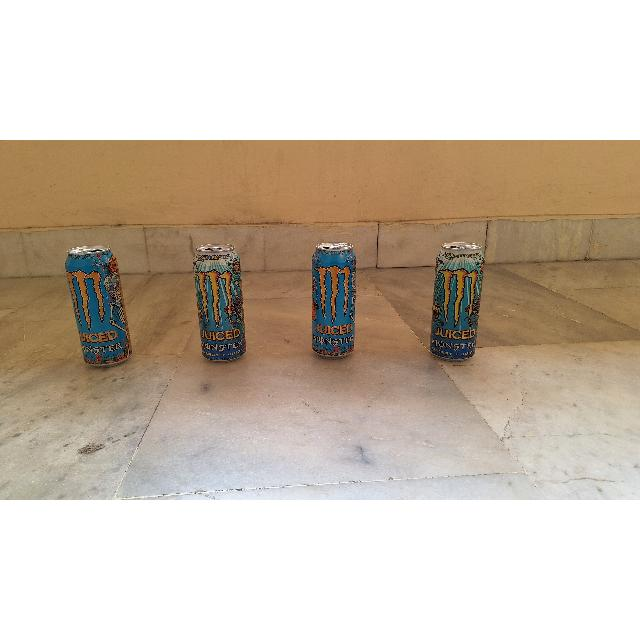Monster Aussie Lemonade: (192, 243, 248, 364), (431, 244, 485, 360)
Monster Mango Loco: (64, 247, 136, 369), (312, 245, 356, 358)
